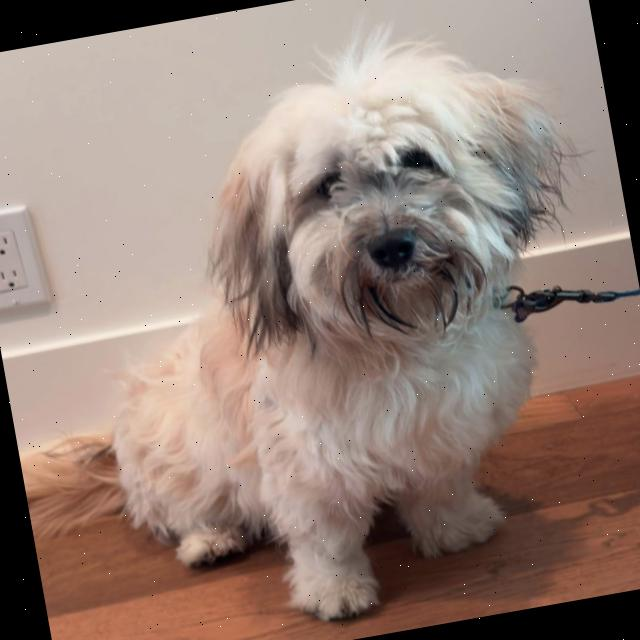shih_tzu_dog: (170, 15, 597, 382)
